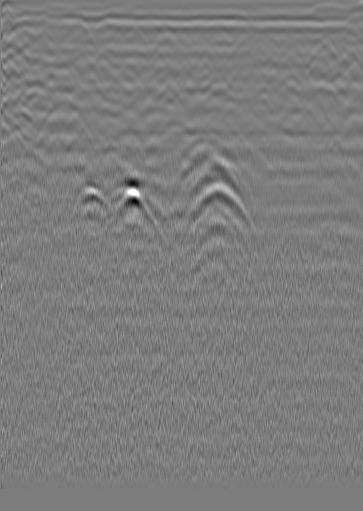가스: (111, 185, 156, 223)
상수: (310, 37, 330, 57)
오수: (36, 23, 56, 43)
우수: (174, 42, 194, 62)
